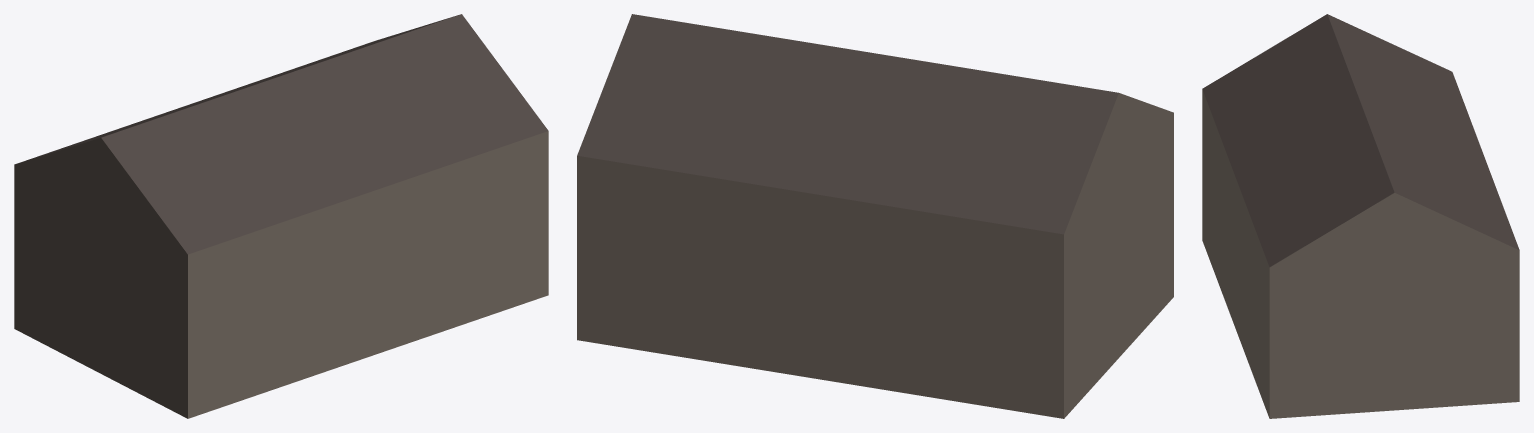
The picture shows the model from 3 angles, left to right: view 1: azimuth 30°, elevation 25°; view 2: azimuth 150°, elevation 25°; view 3: azimuth 270°, elevation 25°; orthographic projection. The views are drawn at different scales.
Visible parts, largest first — view 1: HP-w389701979; view 2: HP-w389701979; view 3: HP-w389701979.
Boxes of the visible parts, left/top/right/bottom form: HP-w389701979: left=14, top=14, right=548, bottom=418; HP-w389701979: left=577, top=14, right=1173, bottom=418; HP-w389701979: left=1202, top=14, right=1519, bottom=418.
Bounding box in the file's own units: 16.63 × 8.63 × 11.4.
